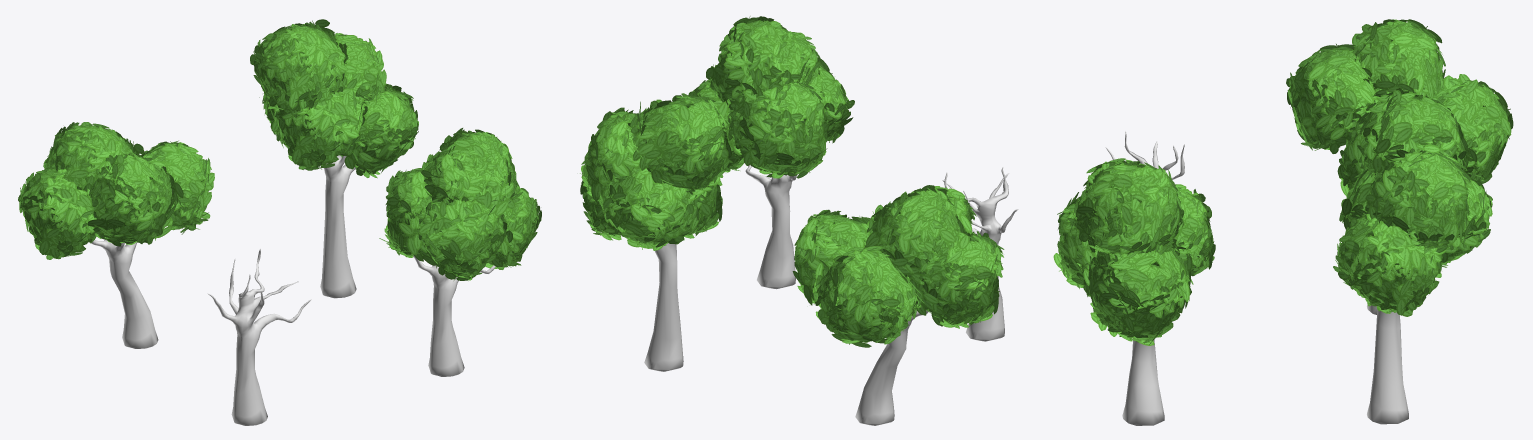
Rendered from Arboles.fbx.
3 views of the same model, side by side, from view 1: azimuth 30°, elevation 25°; view 2: azimuth 150°, elevation 25°; view 3: azimuth 270°, elevation 25° (orthographic). The views are drawn at different scales.
Visible parts, largest first — view 1: HojasArbol1, HojasArbol2, HojasArbol3, Arbol4, Arbol2, Arbol1, Arbol3; view 2: HojasArbol1, HojasArbol2, HojasArbol3, Arbol2, Arbol3, Arbol1, Arbol4; view 3: HojasArbol2, HojasArbol3, HojasArbol1, Arbol2, Arbol3, Arbol4.
Part boxes in pixels (<box>): HojasArbol1: <box>18,122,214,259</box>; HojasArbol2: <box>250,19,418,178</box>; HojasArbol3: <box>379,128,541,280</box>; Arbol4: <box>208,248,311,425</box>; Arbol2: <box>320,155,356,298</box>; Arbol1: <box>91,239,158,348</box>; Arbol3: <box>413,255,495,376</box>; HojasArbol1: <box>792,185,1004,347</box>; HojasArbol2: <box>580,91,731,250</box>; HojasArbol3: <box>692,16,854,178</box>; Arbol2: <box>644,243,683,371</box>; Arbol3: <box>743,157,796,289</box>; Arbol1: <box>855,310,927,425</box>; Arbol4: <box>942,167,1018,341</box>; HojasArbol2: <box>1333,90,1492,316</box>; HojasArbol3: <box>1053,158,1215,345</box>; HojasArbol1: <box>1286,19,1513,196</box>; Arbol2: <box>1367,310,1408,424</box>; Arbol3: <box>1122,338,1164,425</box>; Arbol4: <box>1105,131,1184,179</box>.
Size of the model in its own units: 842 by 539 by 738.
1 material, 1 textured.
